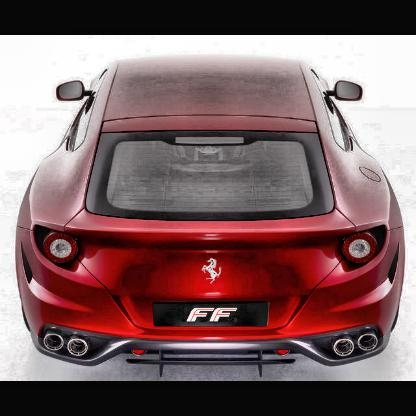Ferrari FF Coupe 2012: (16, 55, 407, 380)
